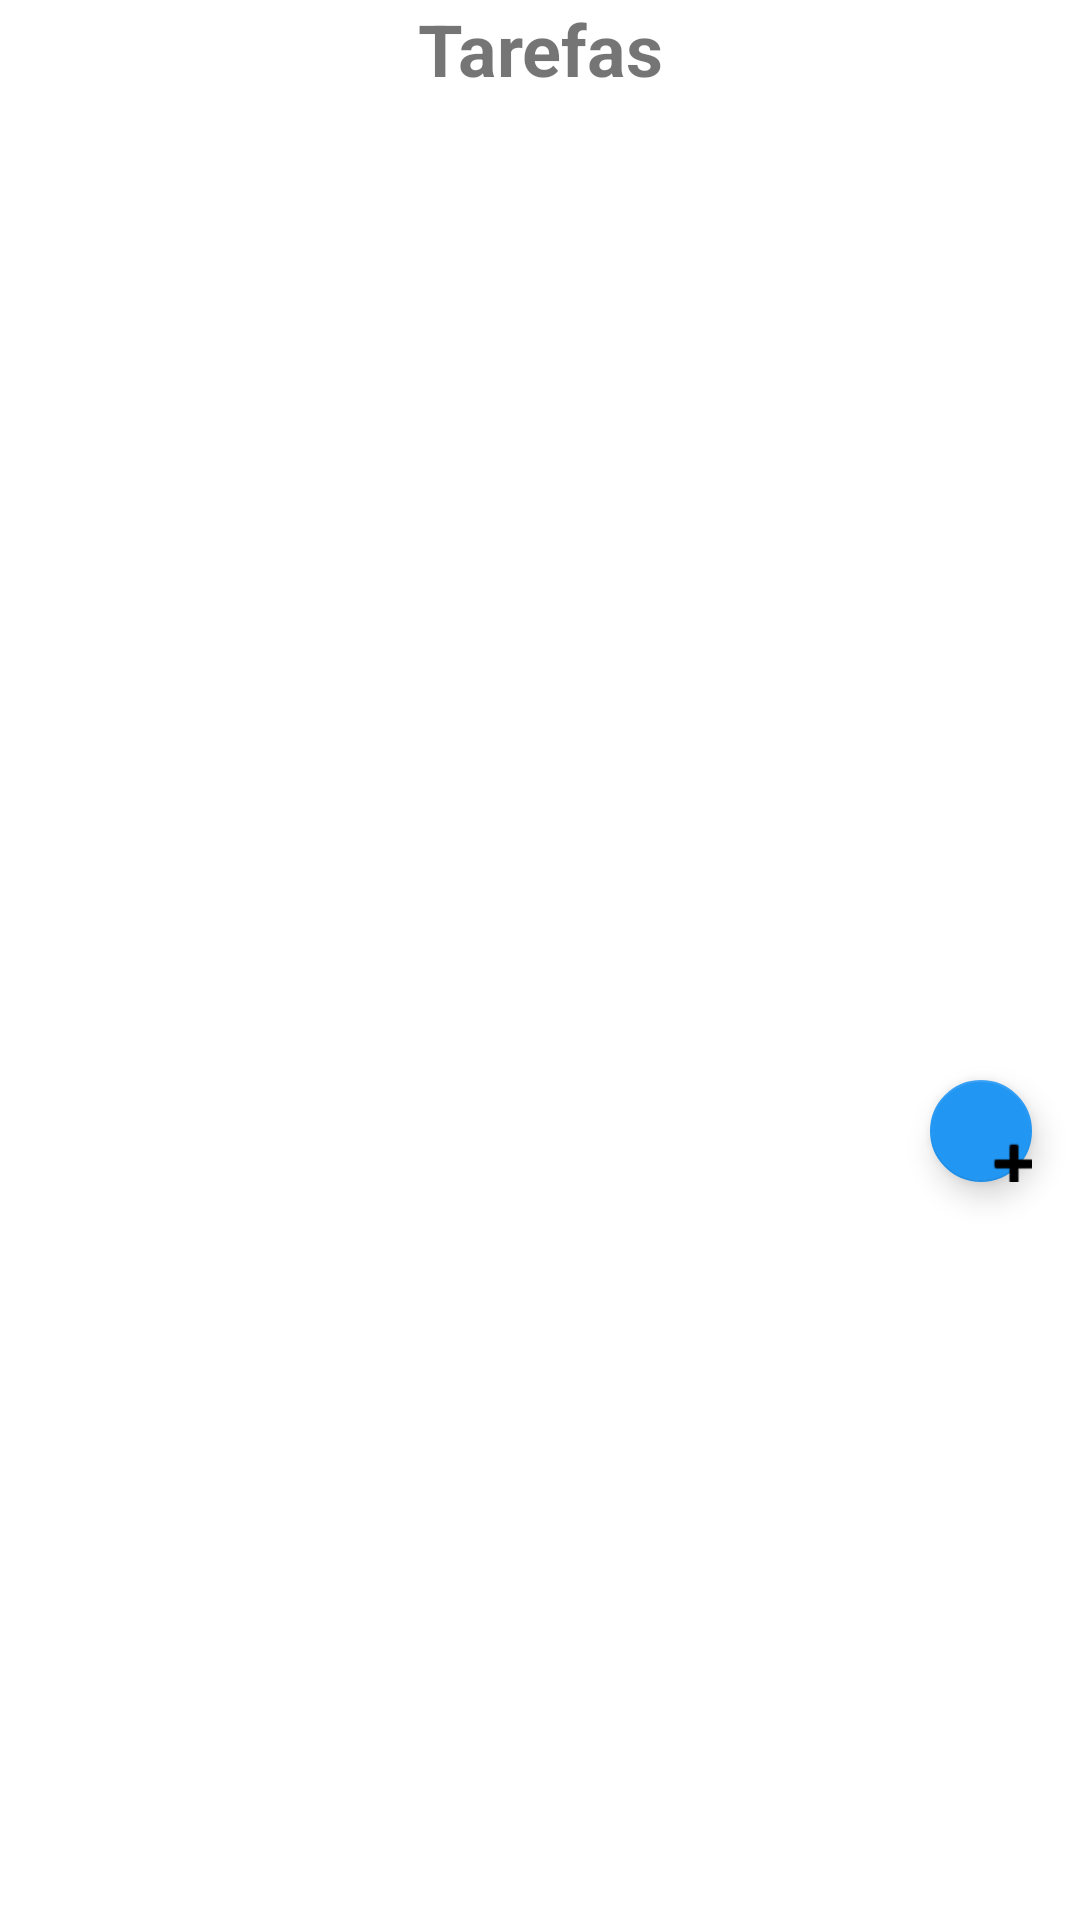

Named icons in this screenshot (1080x1920) and their bounding boxes, region(x1, y1, x2, y2):
Adicionar: region(930, 1080, 1032, 1182)
